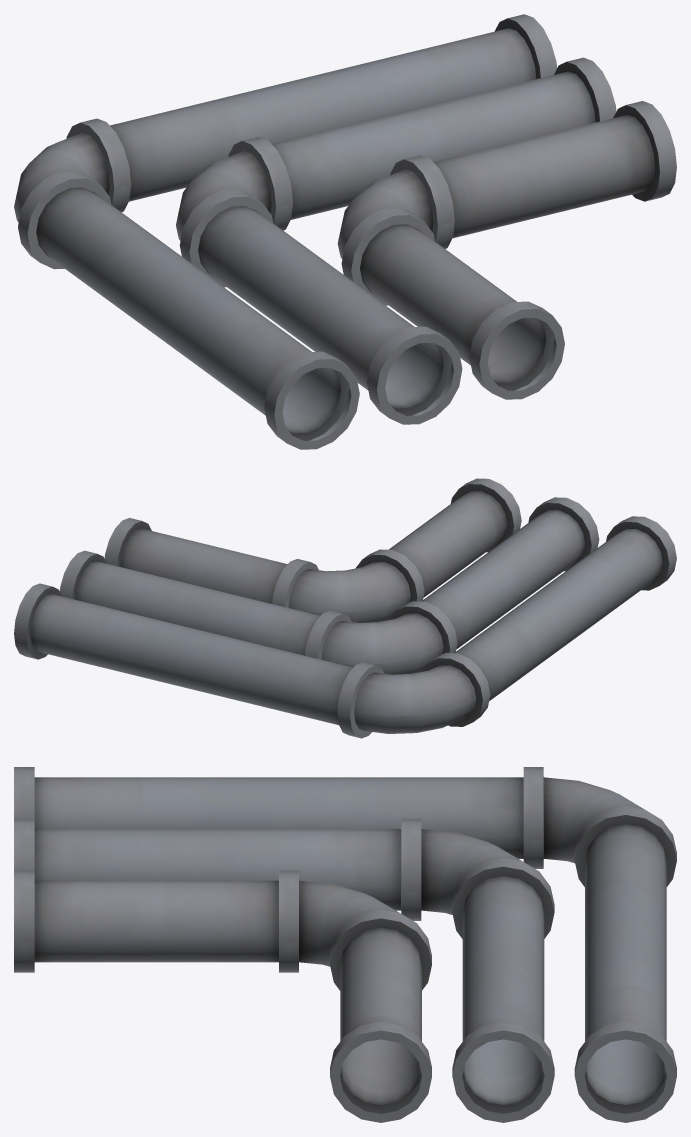
File: props_hydro_3pipe_turn_90.glb
3 views of the same model, one above another, from view 1: azimuth 30°, elevation 25°; view 2: azimuth 150°, elevation 25°; view 3: azimuth 270°, elevation 25° (orthographic). The views are drawn at different scales.
Visible parts, largest first — view 1: models/props_hydro/3pipe_turn_90; view 2: models/props_hydro/3pipe_turn_90; view 3: models/props_hydro/3pipe_turn_90.
Boxes of the visible parts, x1,y1,x2,y2 form: models/props_hydro/3pipe_turn_90: [14, 14, 676, 449]; models/props_hydro/3pipe_turn_90: [14, 478, 676, 738]; models/props_hydro/3pipe_turn_90: [14, 767, 676, 1122].
Bounding box in the file's own units: 64.99 × 10.02 × 64.99.
1 material, 1 textured.
